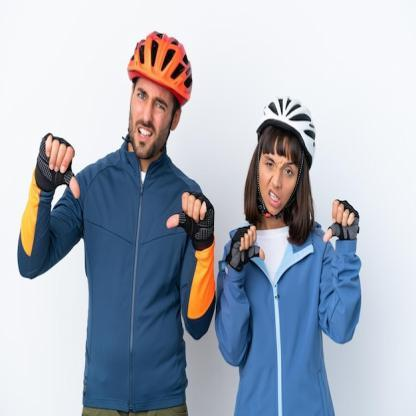thumb_down: (34, 128, 82, 202), (164, 187, 214, 246), (322, 193, 363, 248), (229, 222, 267, 275)
